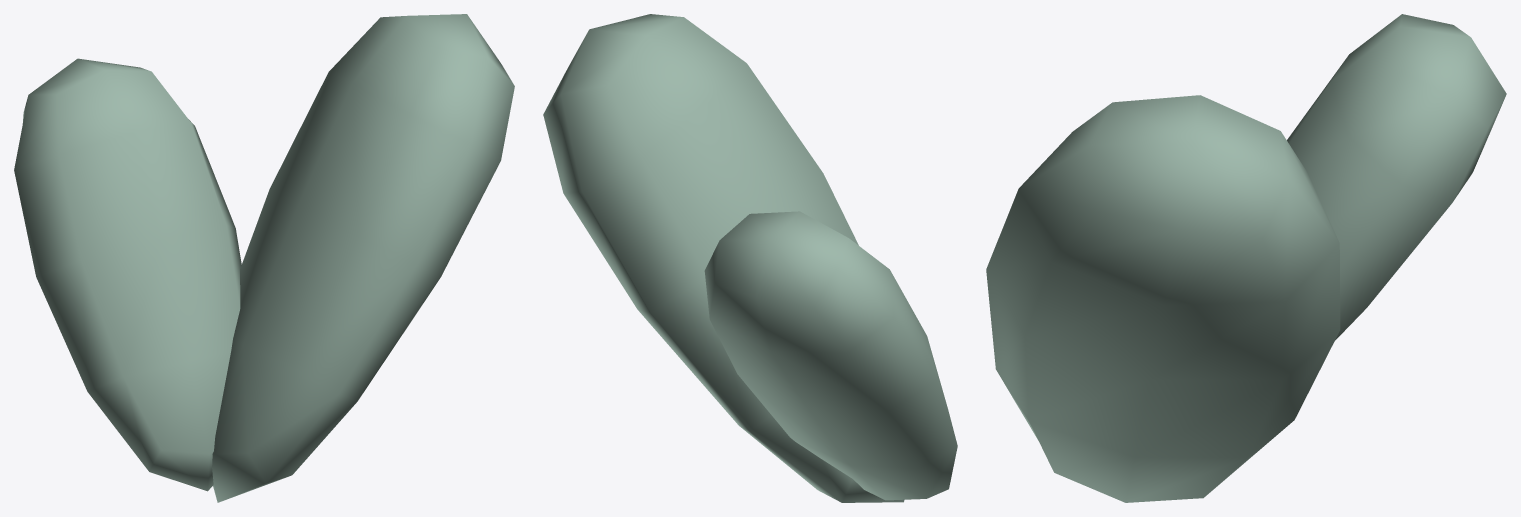
The model's file is TileGrass3.fbx.
3 views of the same model, side by side, from view 1: azimuth 30°, elevation 25°; view 2: azimuth 150°, elevation 25°; view 3: azimuth 270°, elevation 25° (orthographic). The views are drawn at different scales.
Visible parts, largest first — view 1: TileGrass3; view 2: TileGrass3; view 3: TileGrass3.
Part boxes in pixels (x1=…): TileGrass3: x1=14, y1=14, x2=514, y2=502; TileGrass3: x1=543, y1=14, x2=957, y2=502; TileGrass3: x1=986, y1=14, x2=1506, y2=502.
Bounding box in the file's own units: 39.87 × 38.41 × 33.99.
